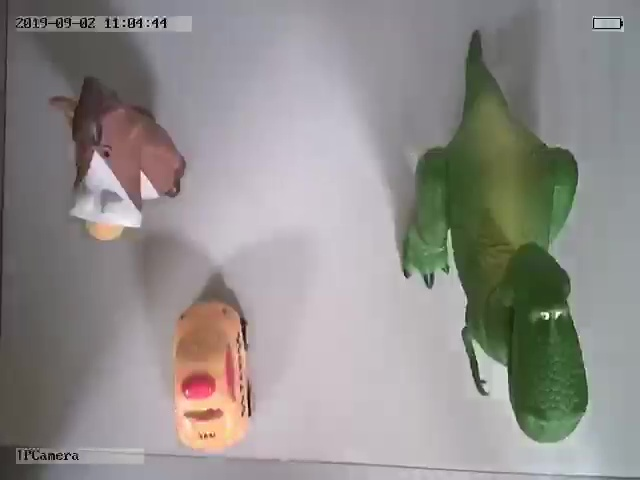car: (170, 298, 255, 451)
horse: (47, 76, 185, 243)
rex: (401, 56, 590, 442)
